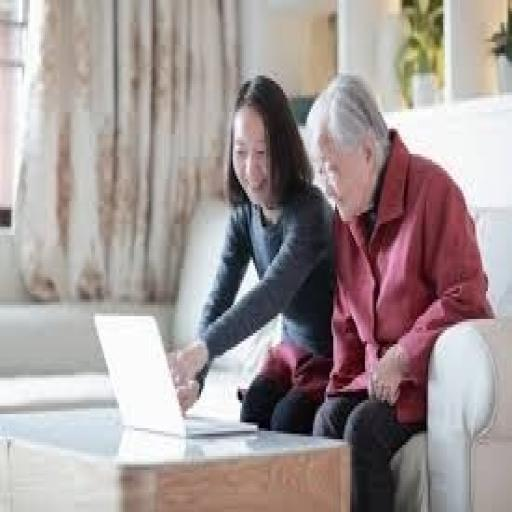using_laptop: (91, 308, 259, 439)
